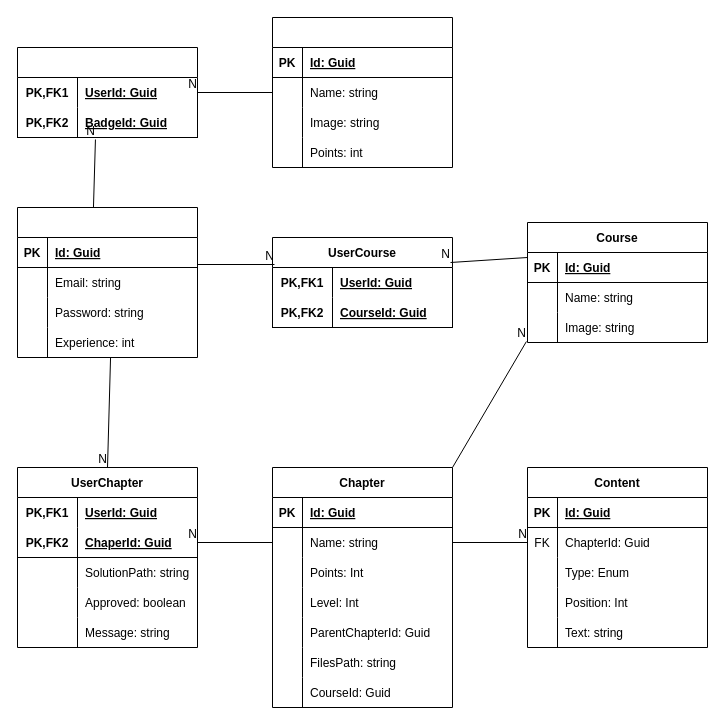
Some shapes in this 725 by 725 pixel diagram are drawn without their labels. Here are the shapes that lost their labels. From the top down, the box of each, then its label:
(16, 46, 198, 138): UserBadge
(272, 16, 452, 168): Badge
(16, 206, 198, 358): User
